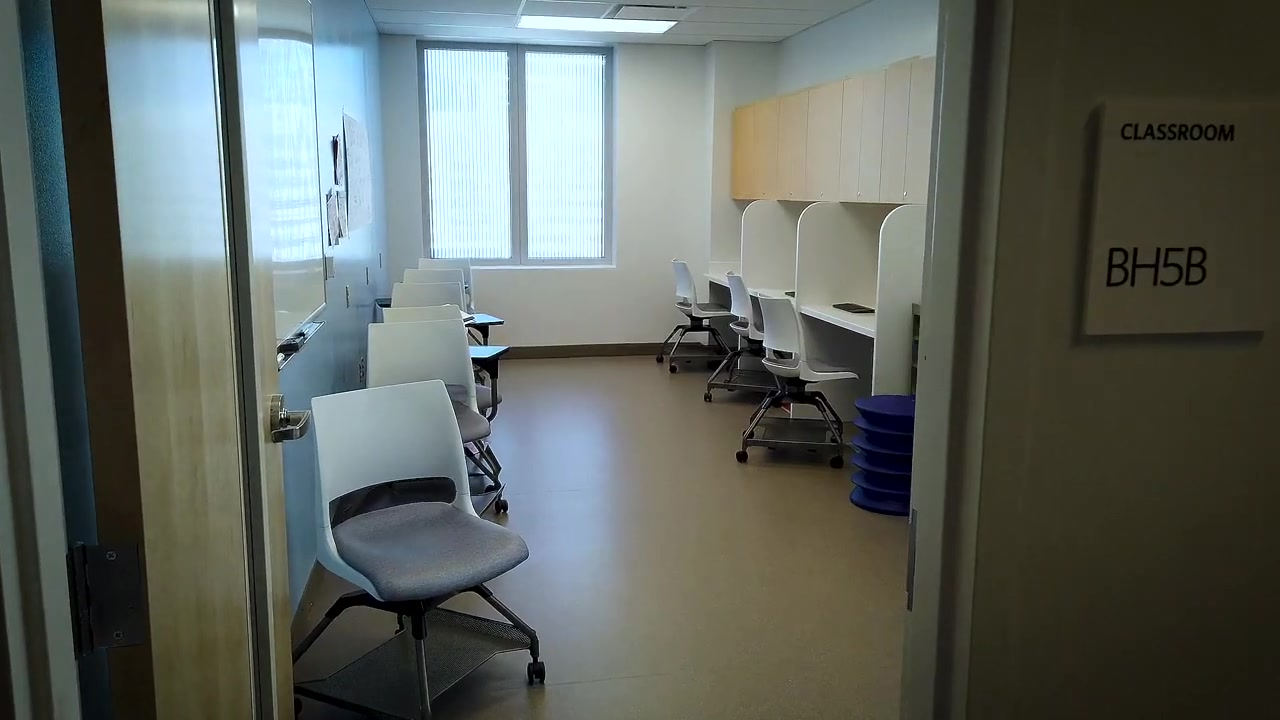cabinet: (729, 55, 929, 209)
chair: (292, 379, 546, 720), (365, 319, 509, 513), (736, 292, 859, 468), (379, 305, 509, 393), (704, 271, 778, 402), (418, 255, 493, 383), (390, 281, 504, 364), (655, 257, 734, 374), (403, 268, 504, 357)
countertop: (800, 305, 875, 338), (748, 288, 795, 305), (709, 273, 730, 288)
door_handle: (270, 393, 312, 443)
keyboard: (833, 303, 874, 314), (783, 291, 802, 301)
